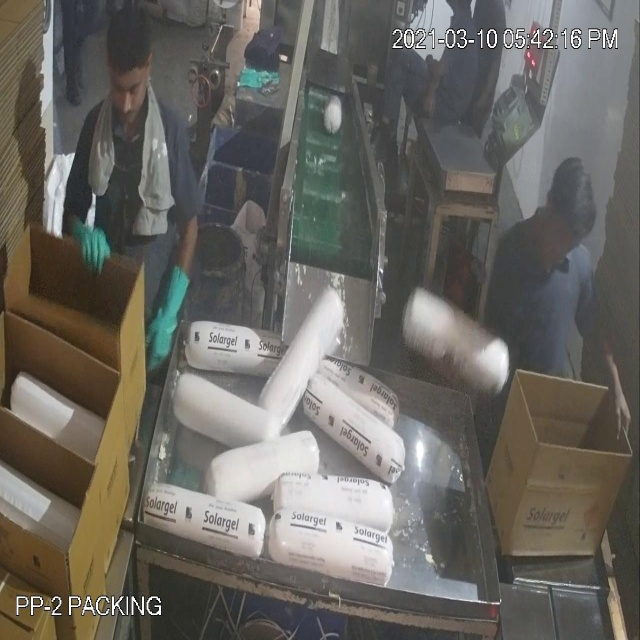Guantes: (140, 246, 203, 404), (56, 202, 112, 282)
Sin_guantes: (570, 311, 640, 446), (472, 46, 510, 123)
